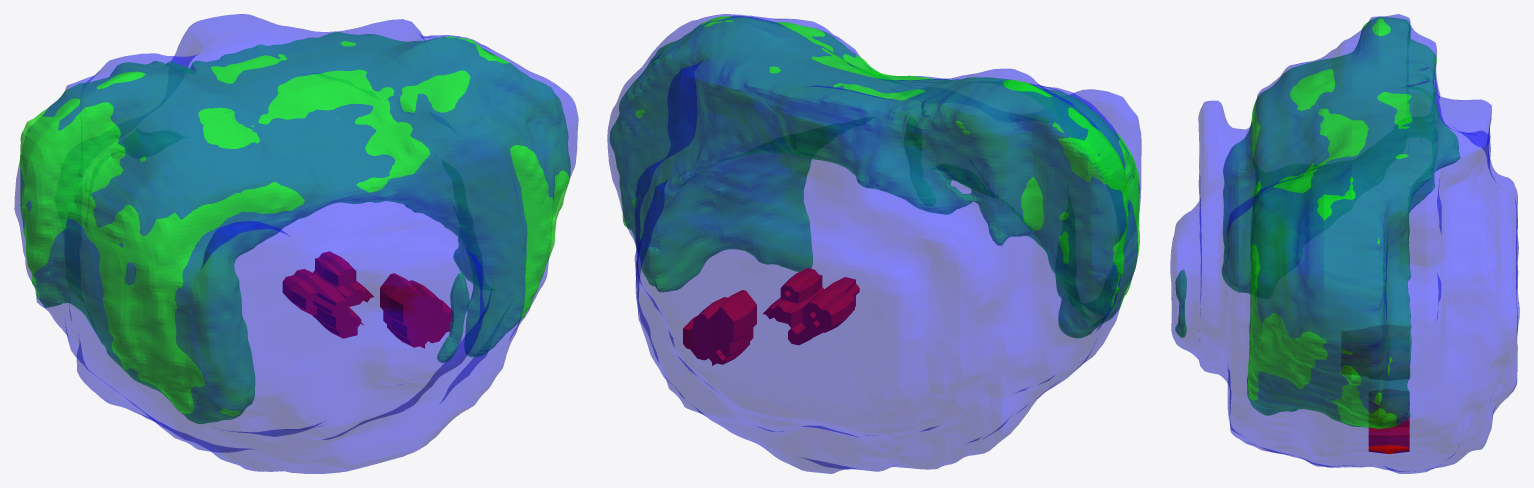
Rendered from NCKU_Test_37.glb.
3 renders of one model, left to right at view 1: azimuth 30°, elevation 25°; view 2: azimuth 150°, elevation 25°; view 3: azimuth 270°, elevation 25°, orthographic. The views are drawn at different scales.
Visible parts, largest first — view 1: model_gland.obj, model_pz.obj, mesh_lesion.obj; view 2: model_gland.obj, model_pz.obj, mesh_lesion.obj; view 3: model_gland.obj, model_pz.obj, mesh_lesion.obj.
Boxes of the visible parts, <box> form: model_gland.obj: <box>14,14,578,473</box>; model_pz.obj: <box>20,32,570,423</box>; mesh_lesion.obj: <box>282,251,451,348</box>; model_gland.obj: <box>607,14,1141,473</box>; model_pz.obj: <box>610,16,1139,338</box>; mesh_lesion.obj: <box>683,268,859,365</box>; model_gland.obj: <box>1170,14,1519,473</box>; model_pz.obj: <box>1175,17,1459,428</box>; mesh_lesion.obj: <box>1368,409,1409,453</box>.
Size of the model in its own units: 0.0579 by 0.0436 by 0.0383.
